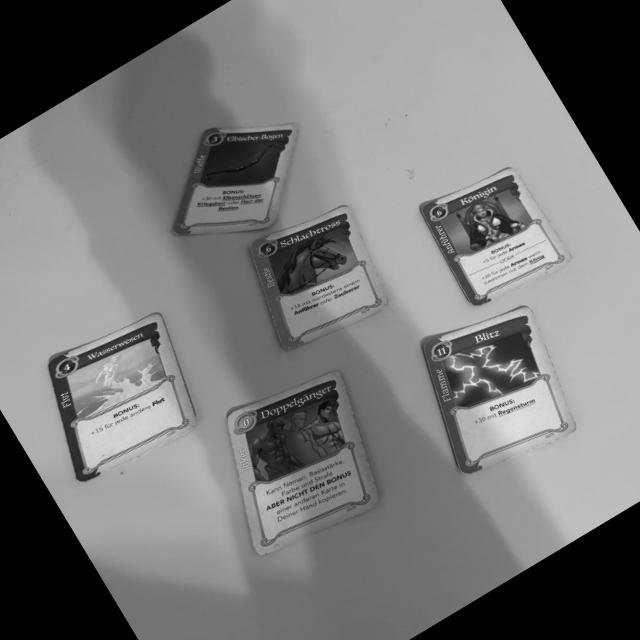Doppelganger: (225, 366, 380, 557)
Elven Longbow: (170, 125, 301, 234)
Lightning: (422, 305, 580, 479)
Queen: (420, 165, 573, 306)
War Horse: (249, 202, 391, 351)
Water Elemental: (48, 310, 197, 483)
